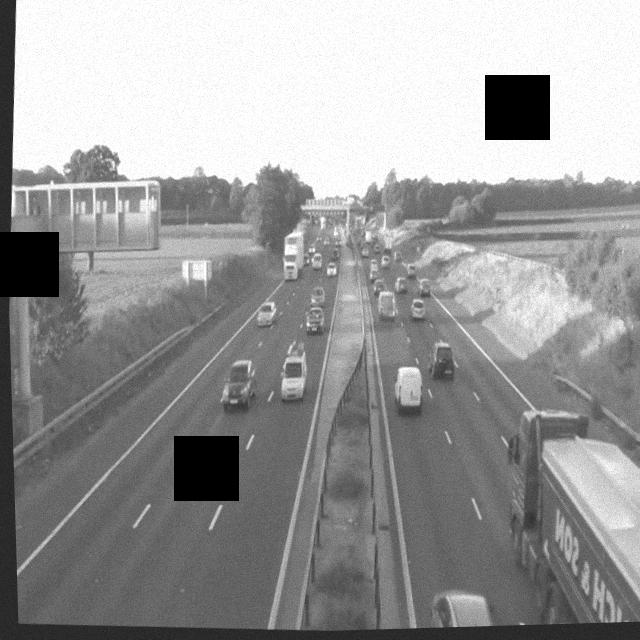car: (431, 588, 509, 628), (221, 359, 257, 410), (279, 347, 309, 400), (394, 364, 425, 412), (429, 340, 458, 380), (304, 301, 327, 336), (377, 290, 397, 320), (258, 301, 278, 327), (406, 296, 424, 320), (416, 277, 432, 299), (310, 286, 325, 308), (395, 276, 408, 296), (369, 267, 380, 285), (326, 261, 337, 278), (311, 255, 321, 269)
truck: (496, 405, 640, 626), (285, 232, 307, 279)
